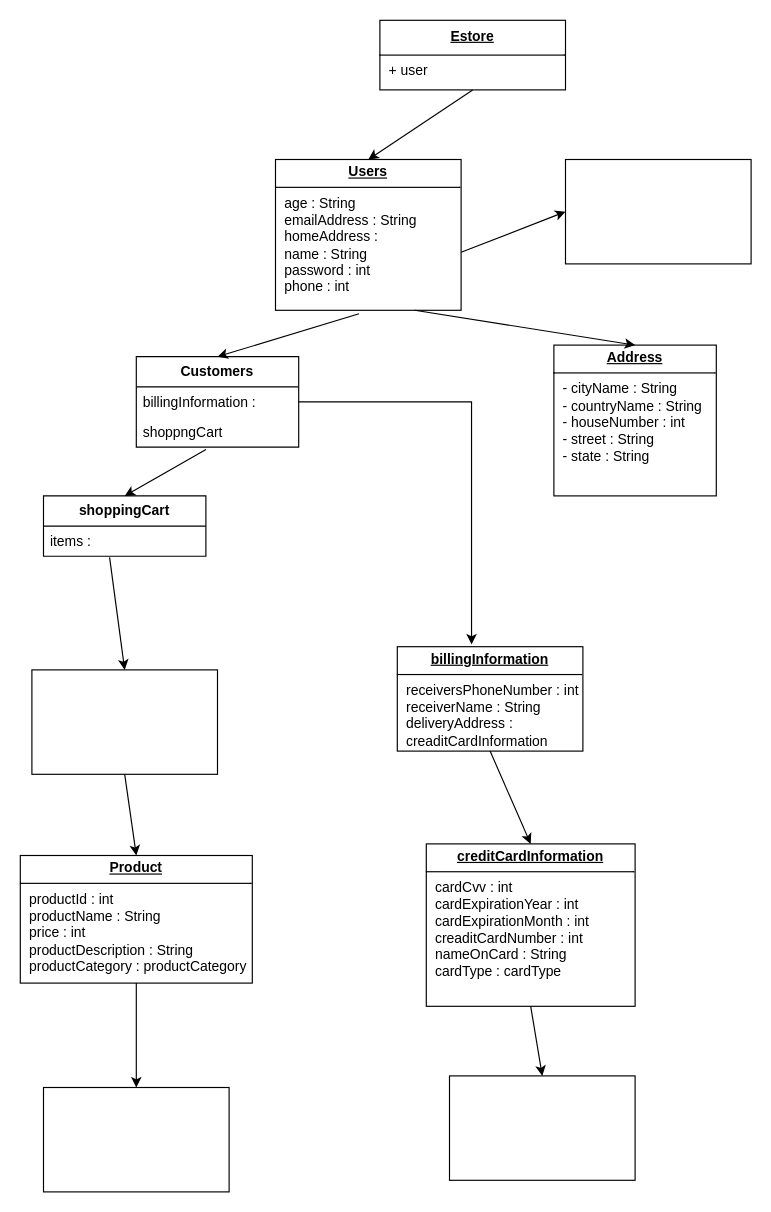
The diagram is 771 pixels wide and 1212 high, and some of its shapes have lost their labels. The shapes that lost their labels are listed below. From the top down, each one's centre as x and y in pixels, then its label:
point (657, 211): role + Customer + Sellers + Admin
point (124, 721): Items quality : int product : product
point (135, 1139): productCategory Electronics Groceries Utensils Clothing
point (541, 1127): cardType + MASTER CARD + VISA CARD + VERVE
